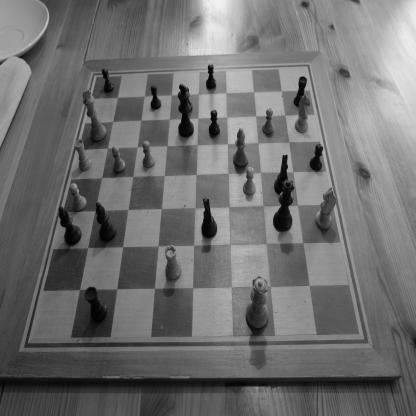black-bishop: (58, 206, 82, 245), (96, 201, 116, 242)
black-king: (177, 83, 194, 138)
black-knight: (201, 197, 218, 238), (274, 154, 288, 194)
black-pawn: (310, 143, 324, 171), (150, 84, 162, 110), (209, 109, 220, 136), (102, 68, 114, 92), (206, 64, 216, 90), (185, 86, 193, 112)
black-queen: (272, 178, 294, 232)
black-rook: (84, 285, 108, 323), (294, 76, 308, 108)
white-bishop: (233, 127, 249, 168)
white-king: (82, 88, 107, 142)
white-knight: (315, 187, 337, 230), (294, 91, 312, 133)
white-pawn: (69, 183, 87, 212), (142, 140, 156, 168), (112, 146, 126, 174), (243, 166, 256, 196), (262, 108, 274, 135)
white-queen: (245, 274, 269, 330)
white-rook: (164, 244, 182, 281), (74, 138, 93, 172)
